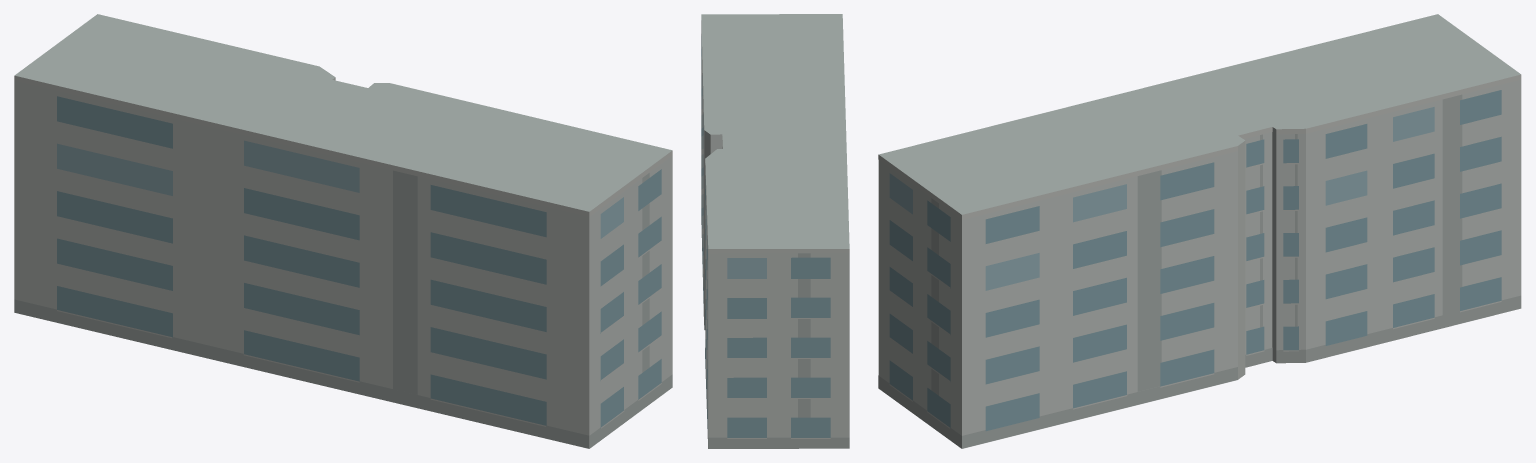
File: survey-upis-32816190.glb
The picture shows the model from 3 angles, left to right: view 1: azimuth 30°, elevation 25°; view 2: azimuth 150°, elevation 25°; view 3: azimuth 270°, elevation 25°; orthographic projection. The views are drawn at different scales.
Visible parts, largest first — view 1: survey-upis-32816190.tmp; view 2: survey-upis-32816190.tmp; view 3: survey-upis-32816190.tmp.
Boxes of the visible parts, <box> form: survey-upis-32816190.tmp: <box>14,14,672,448</box>; survey-upis-32816190.tmp: <box>701,14,849,448</box>; survey-upis-32816190.tmp: <box>878,14,1521,448</box>.
Size of the model in its own units: 20.36 by 11.05 by 27.52.
